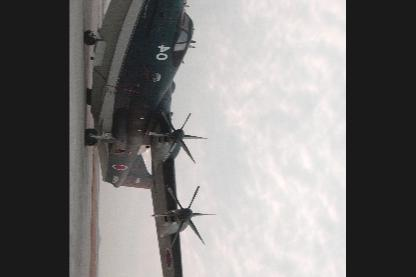Tu95: (82, 0, 218, 276)
